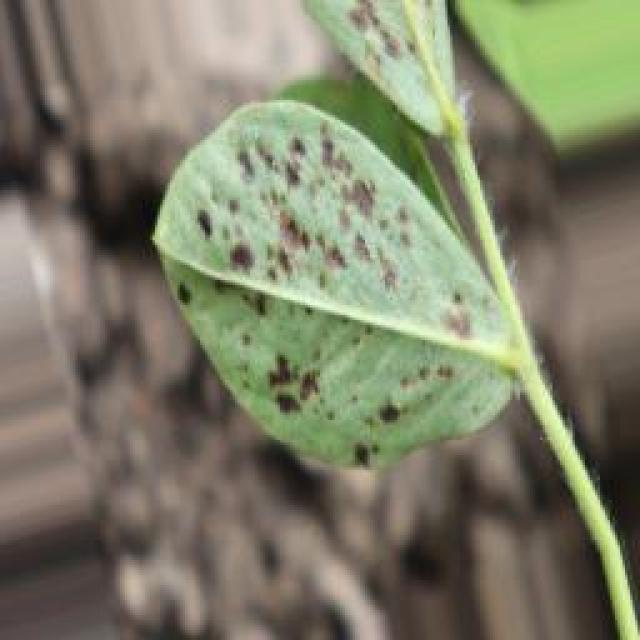Whitefly: (154, 0, 525, 513)
